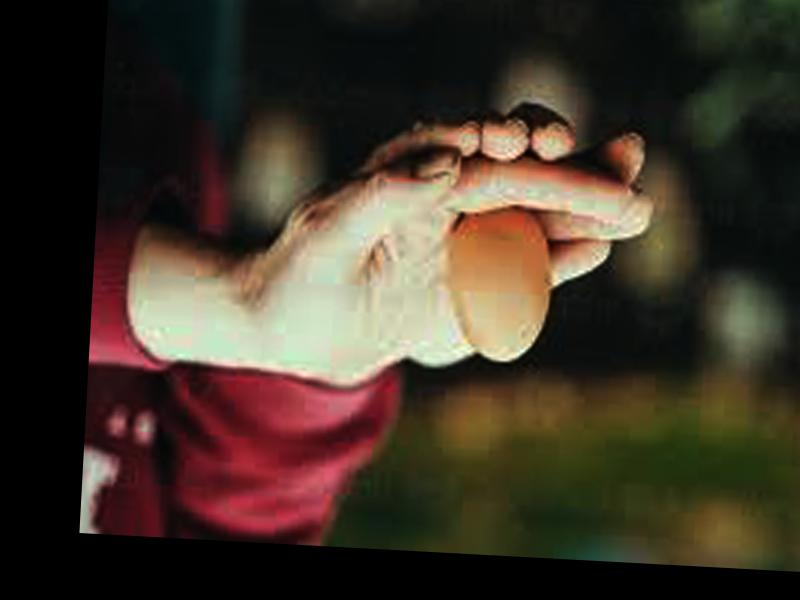Eggs: (443, 207, 553, 363)
